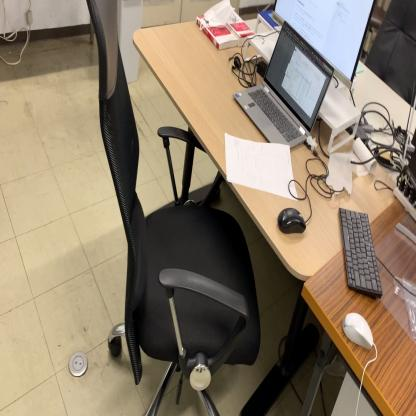chair: (85, 0, 262, 416)
